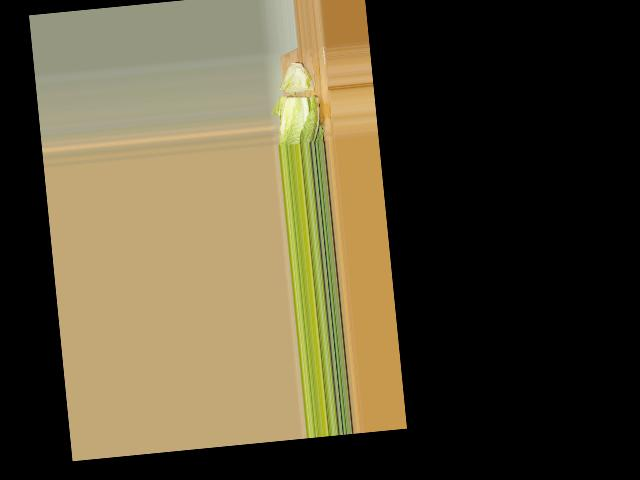lettuce: (269, 60, 327, 144)
